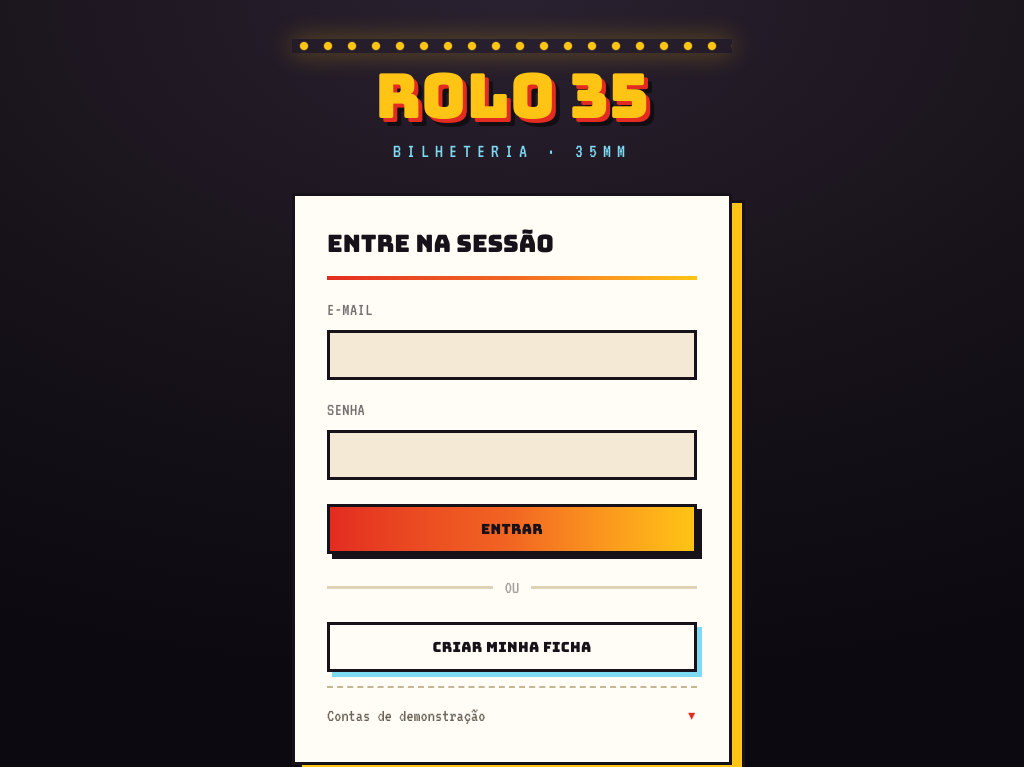
Test case: LoginPage › fills the form from a demo account without logging in by itself
The width and height of the screenshot is (1024, 767).
Click the button "Contas de demonstração ▾" at (406, 716), box [327, 702, 697, 730]
(page scrolled)
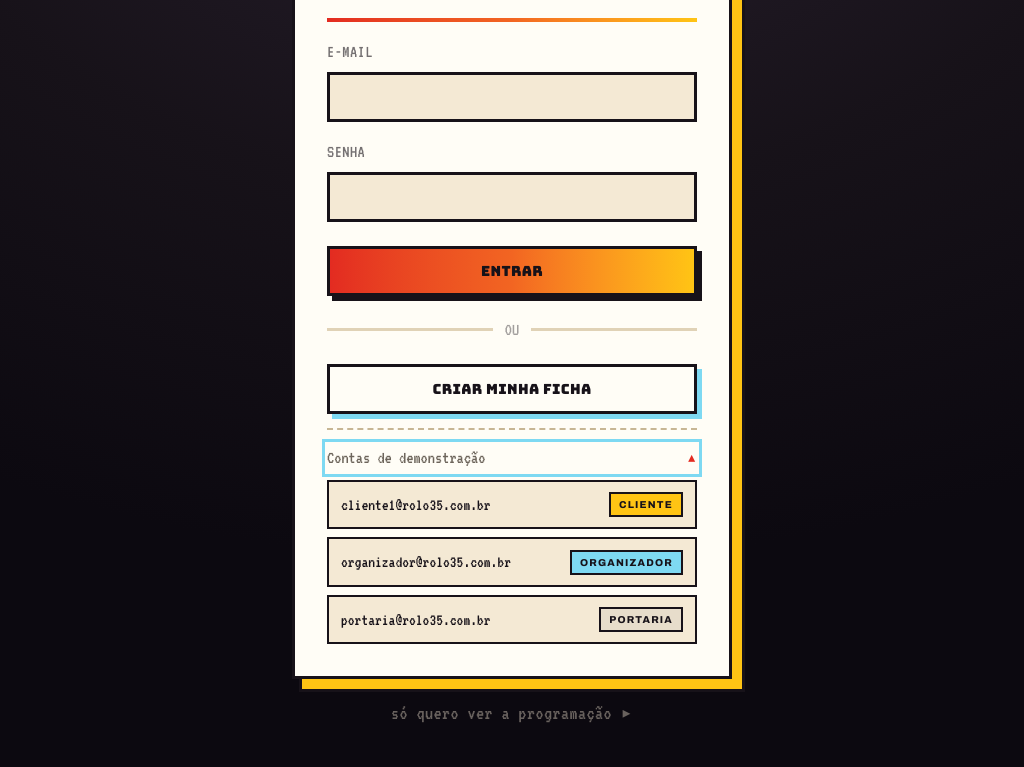
Click the button "organizador@rolo35.com.br ORGANIZADOR" at (512, 562), box [327, 537, 697, 587]
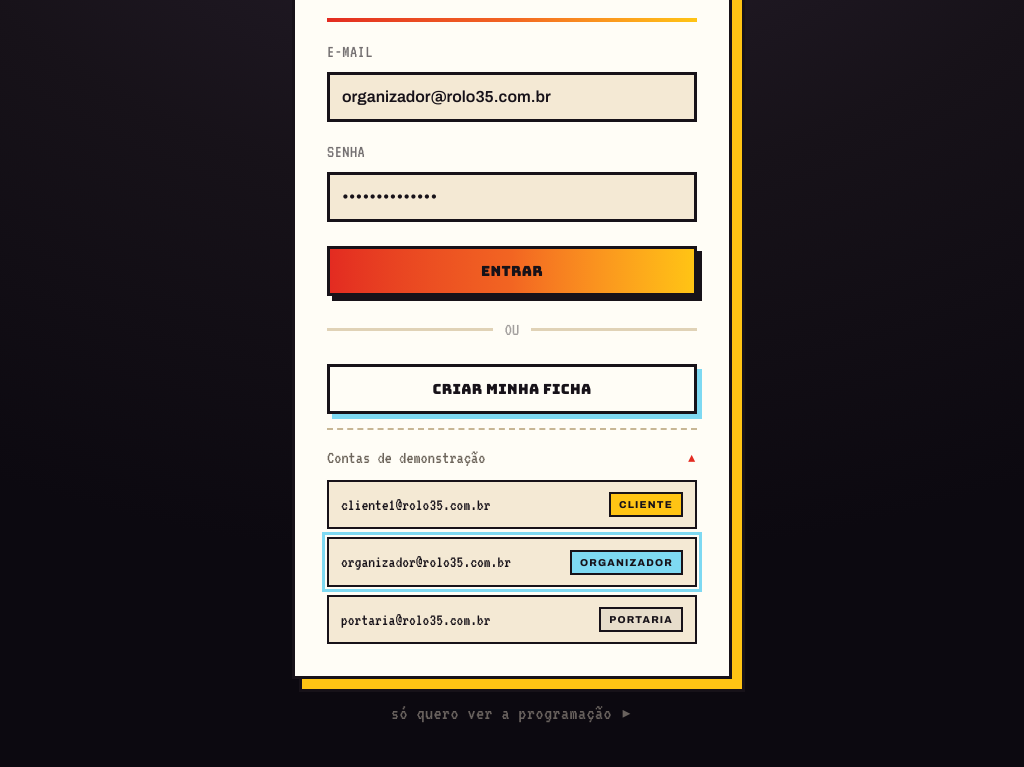
Check: the field labelled "E-MAIL" holds "organizador@rolo35.com.br", box [327, 72, 697, 122]
Check: the password field labelled "SENHA" holds "organizador123", box [327, 172, 697, 222]
